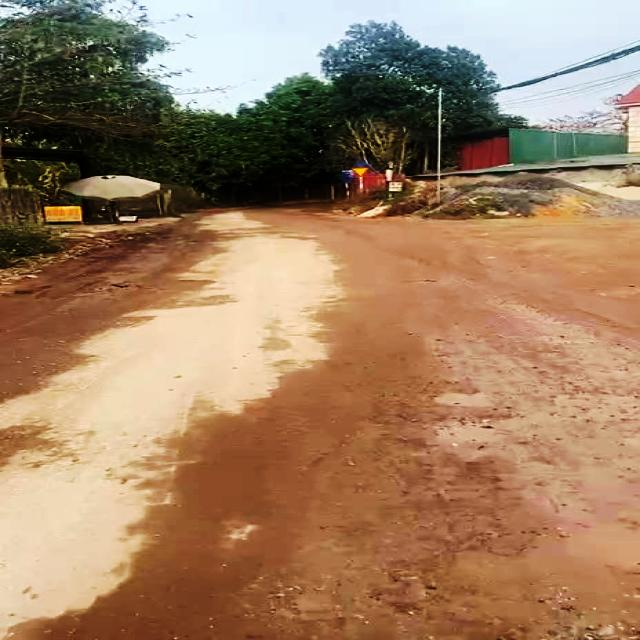pothole: (424, 384, 518, 458)
